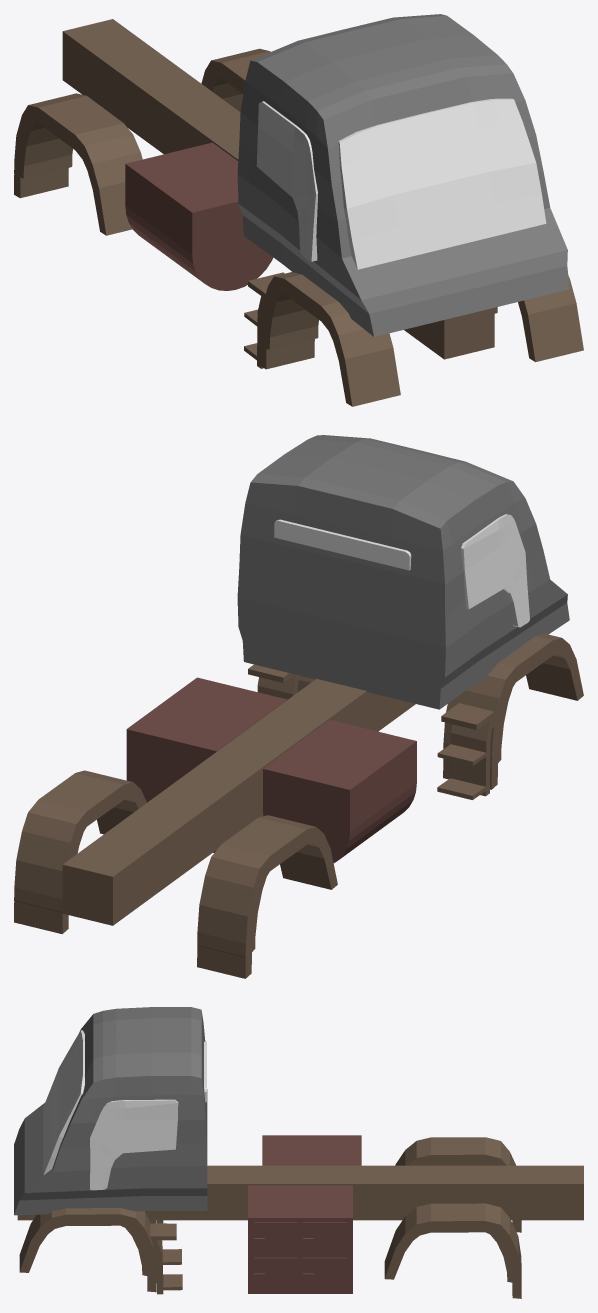
The model's file is emptyVan.fbx.
3 renders of one model, top to bottom at view 1: azimuth 30°, elevation 25°; view 2: azimuth 150°, elevation 25°; view 3: azimuth 270°, elevation 25°, orthographic. The views are drawn at different scales.
Visible parts, largest first — view 1: kabin, camlar, camurluk, sasi, Cylinder; view 2: kabin, camurluk, sasi, Cylinder, Cube, camlar; view 3: kabin, sasi, camurluk, Cube, camlar, Cylinder.
Part boxes in pixels (x1,y1,x2,y2): kabin: (237, 14, 569, 336); camlar: (256, 98, 546, 269); camurluk: (14, 48, 583, 406); sasi: (62, 19, 494, 359); Cylinder: (125, 142, 273, 290); kabin: (237, 435, 569, 709); camurluk: (14, 633, 583, 978); sasi: (62, 678, 415, 925); Cylinder: (263, 720, 416, 862); Cube: (126, 677, 287, 852); camlar: (274, 514, 529, 627); kabin: (14, 1007, 207, 1215); sasi: (17, 1165, 583, 1220); camurluk: (19, 1137, 521, 1298); Cube: (248, 1185, 352, 1293); camlar: (43, 1030, 206, 1190); Cylinder: (262, 1135, 361, 1165).
Size of the model in its own units: 764 by 328 by 272.
